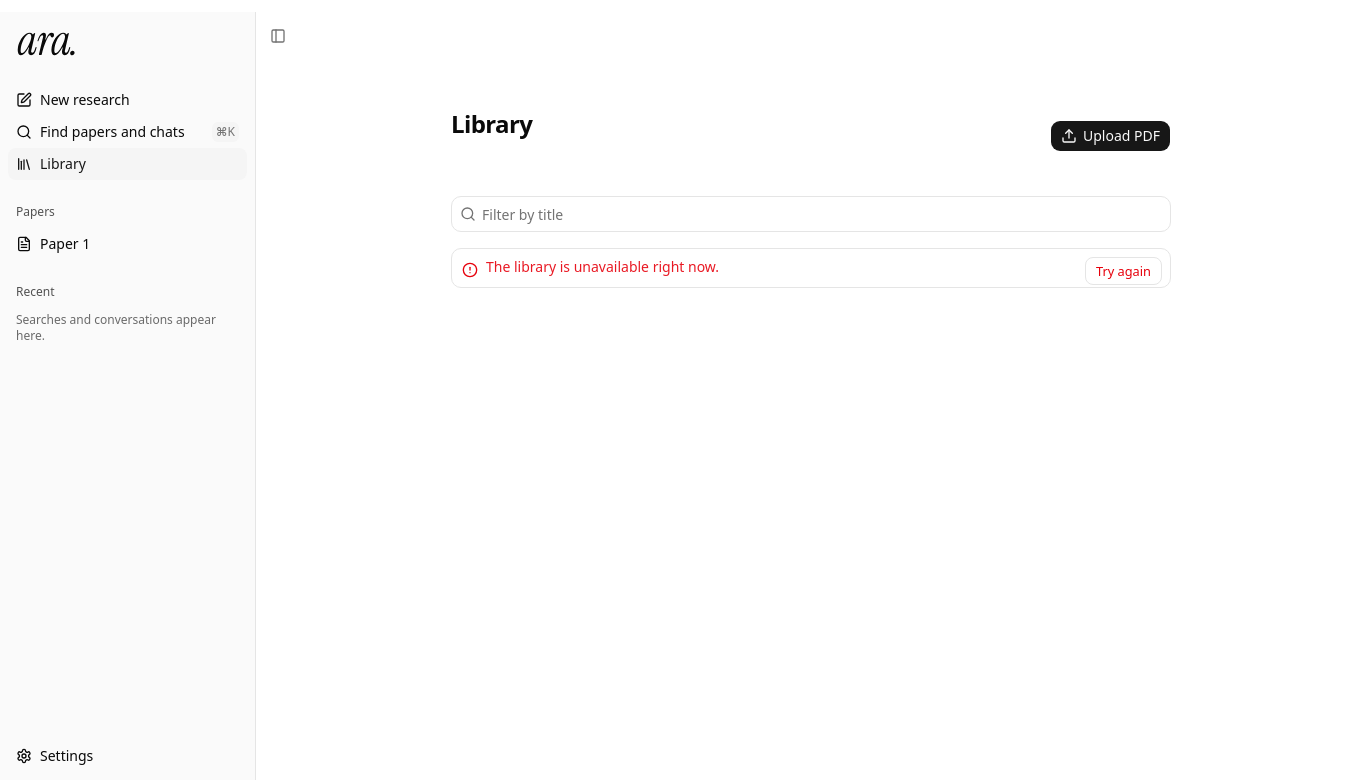
Given the library cannot load, Then the error is shown inline and Try again reloads it
Expected: the message shows "The library is unavailable right now.", x1=486 y1=257 x2=719 y2=276
Click the button "Try again".
click(1123, 271)  # box x1=1085 y1=257 x2=1162 y2=285
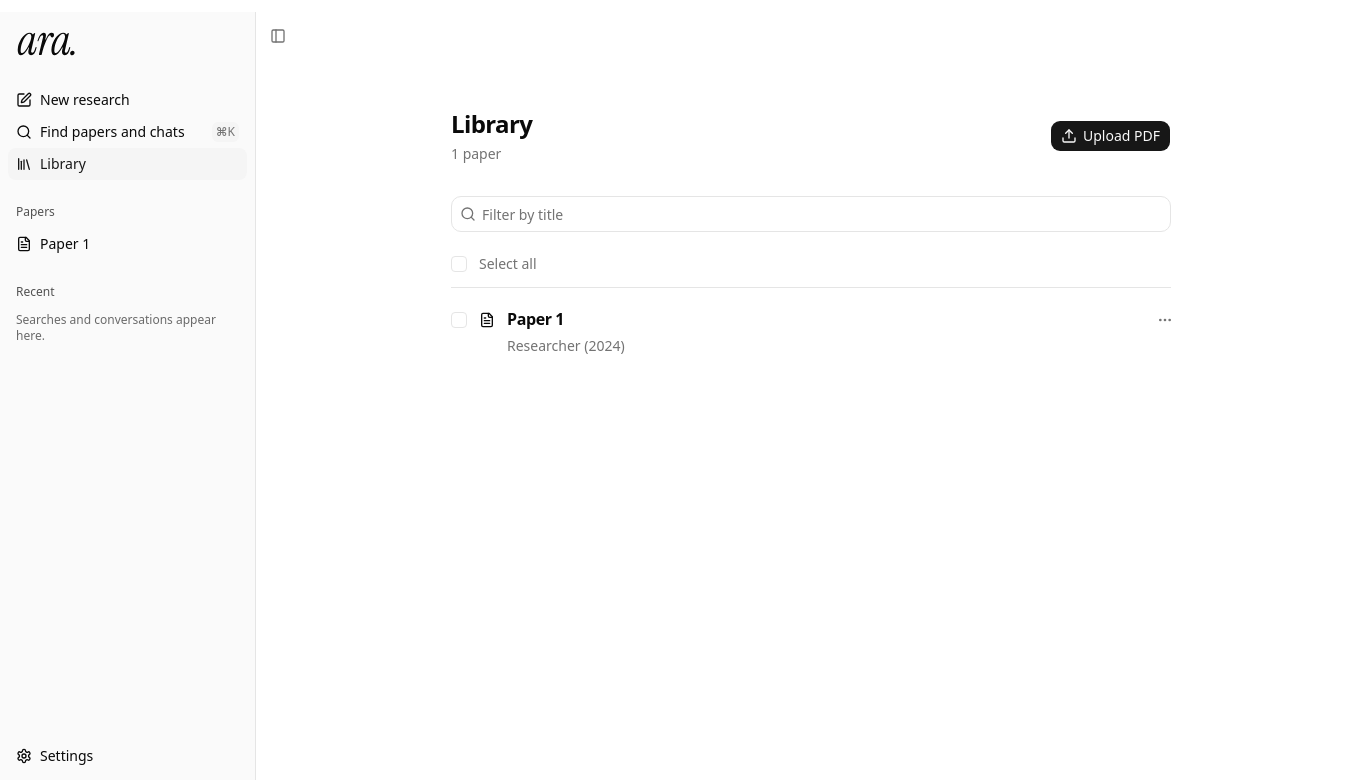
Expected: the link named "Paper 1, " is shown, x1=507 y1=308 x2=564 y2=330
Expected: the message "The library is unavailable right now. Try again" is gone
